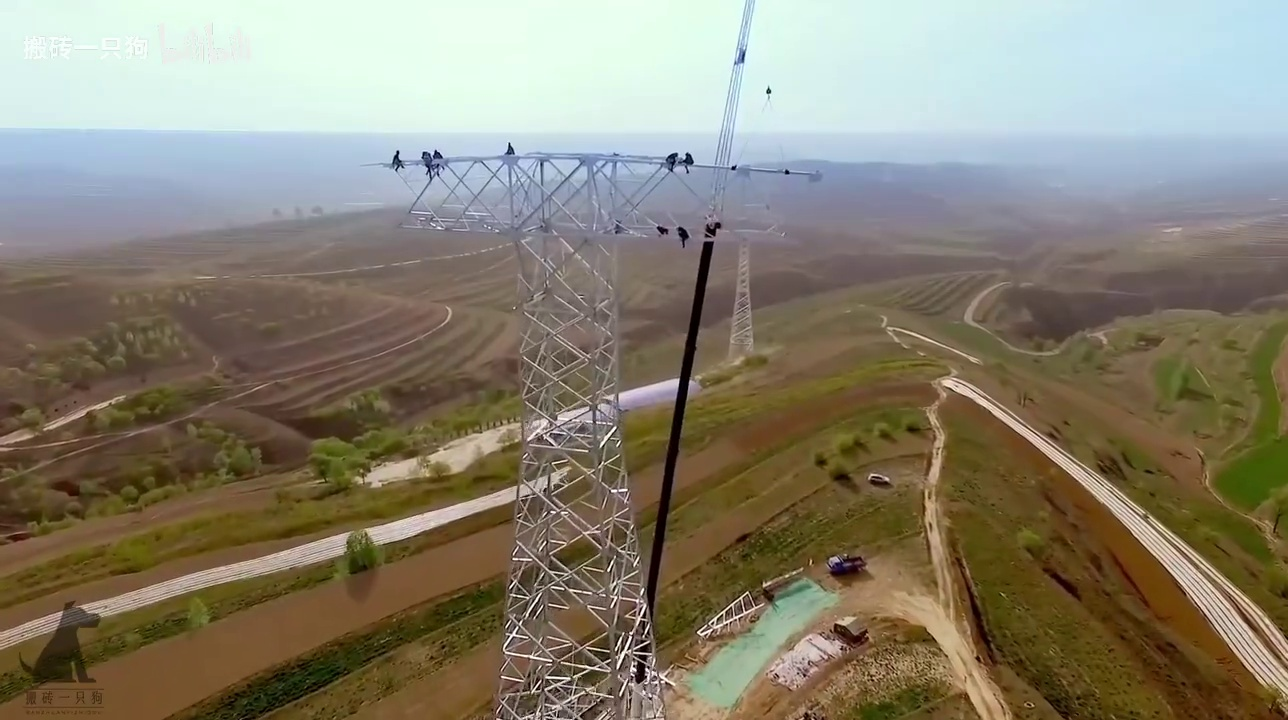tower_body: (365, 135, 836, 720)
tower_foot: (490, 566, 657, 720)
tower_head: (378, 145, 829, 238)
